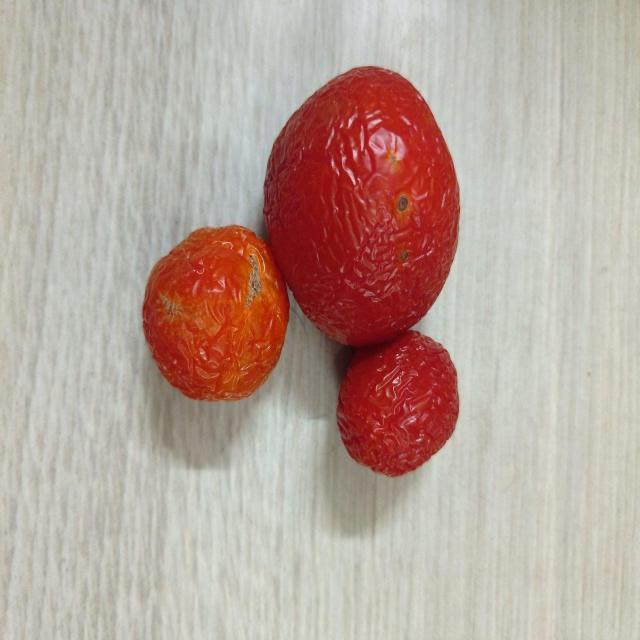overripe: (262, 62, 462, 348), (141, 222, 294, 403), (336, 330, 462, 478)
